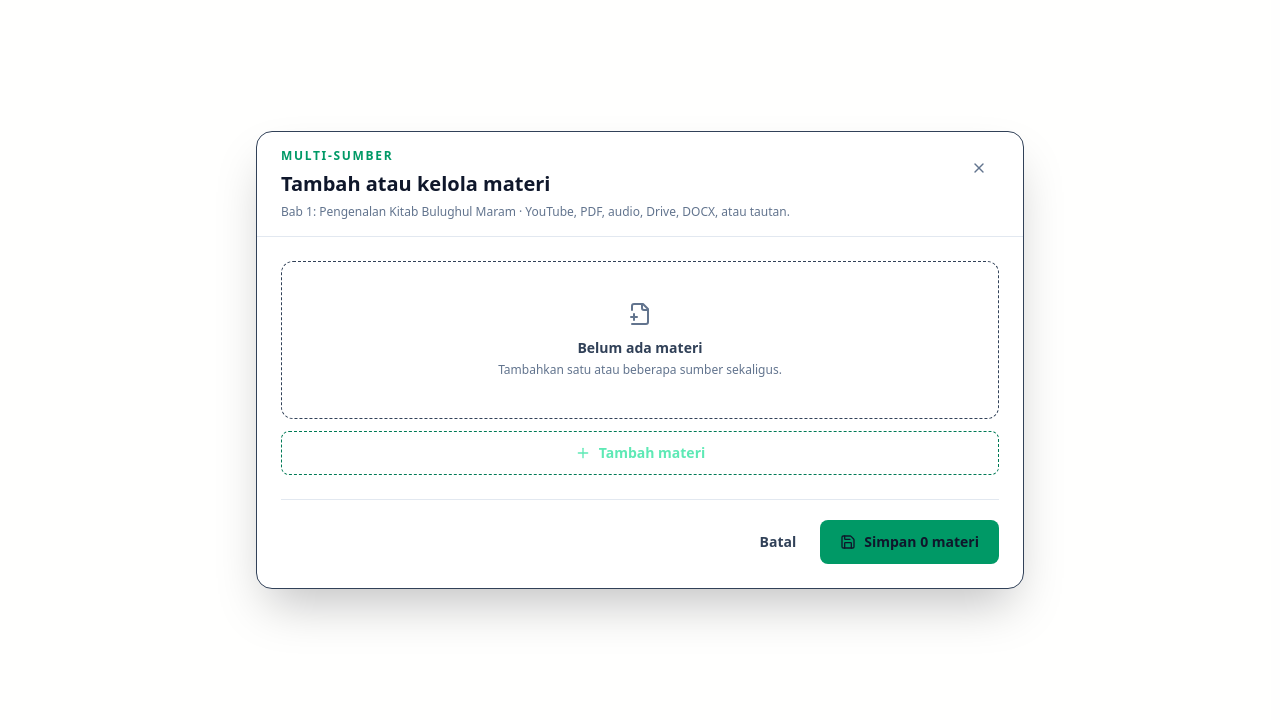
Test: Lessons Feature Integration Tests › dialog materi menyediakan multi-sumber dalam alur terpisah
Click the button "Tambah materi". click: coordinates (640, 452)
box: [281,430,999,474]
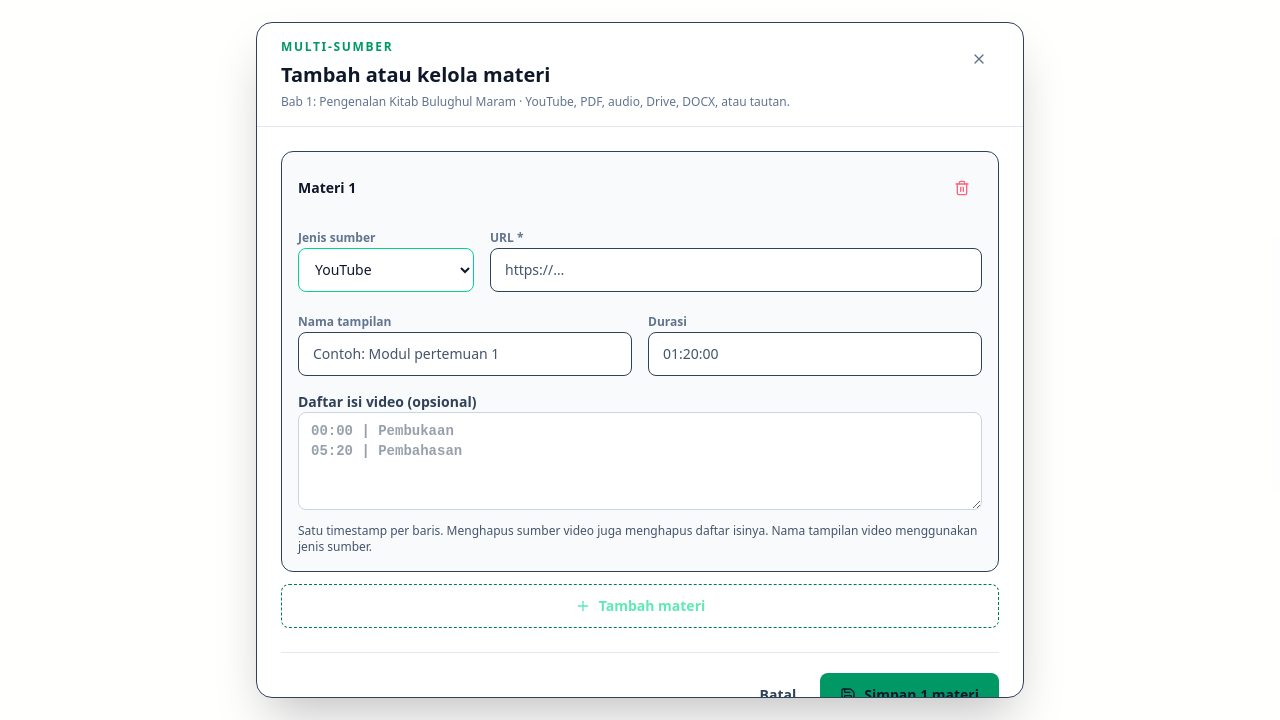
Result: the heading "Materi 1" is shown at [298,178,356,198]
Click the button "Tambah materi". click: coordinates (640, 606)
box: [281,584,999,628]
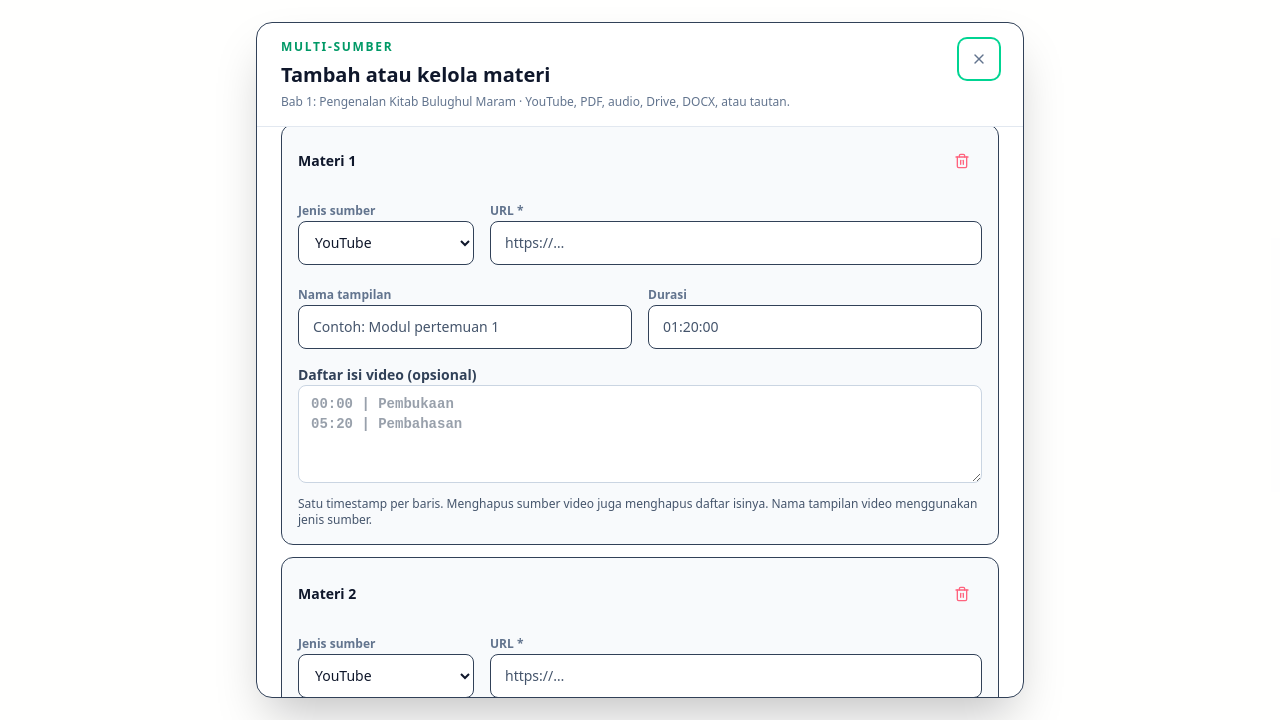
Result: the heading "Materi 2" is shown at [298,584,356,604]
